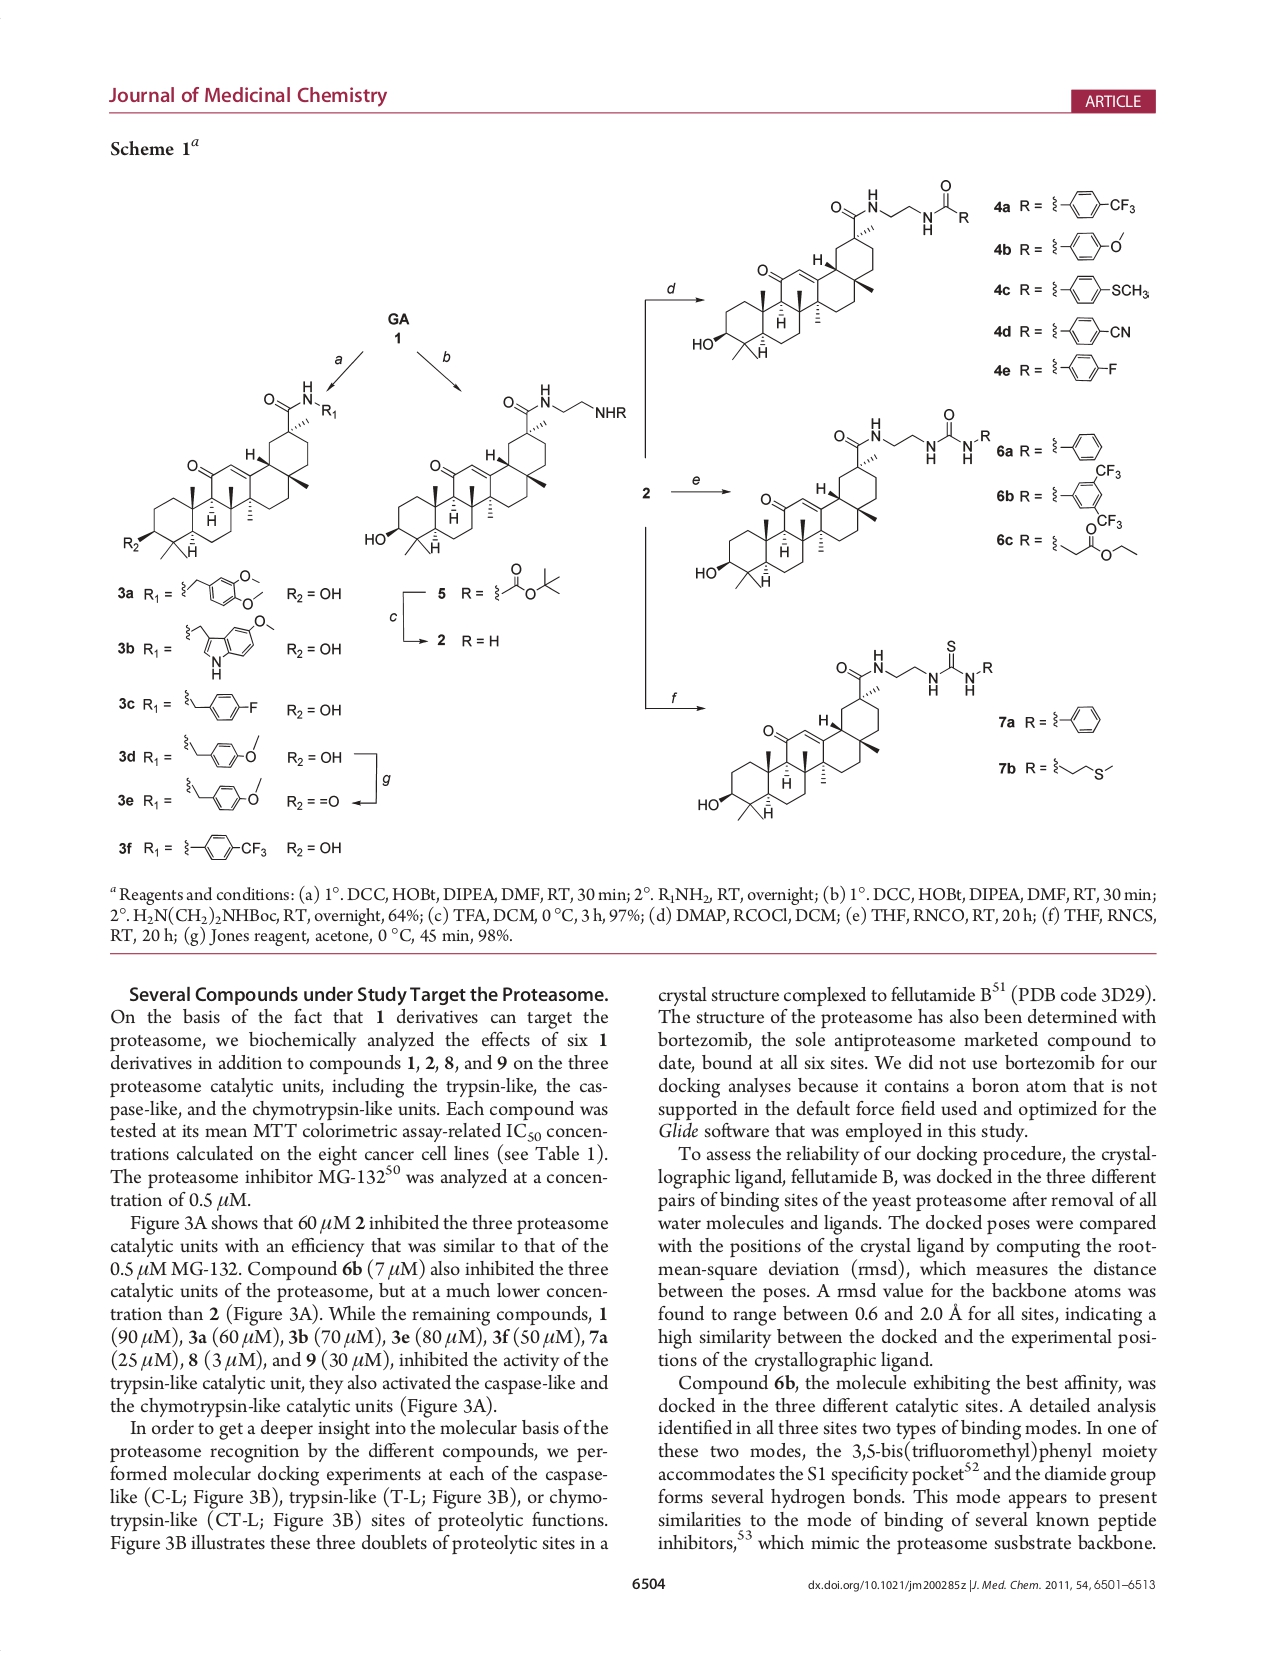exist_molecular: (692, 406, 991, 590), (696, 638, 995, 822), (689, 176, 972, 362), (360, 380, 629, 557), (118, 376, 338, 561), (184, 613, 277, 684), (1049, 461, 1125, 529), (176, 565, 266, 610), (1048, 270, 1149, 309), (181, 773, 267, 815), (1048, 524, 1137, 565), (489, 559, 564, 606), (177, 729, 261, 770), (180, 684, 261, 726), (1047, 186, 1137, 222), (178, 829, 269, 863), (1051, 313, 1134, 348), (1048, 350, 1118, 387), (1051, 227, 1128, 261), (1051, 751, 1114, 785), (1049, 701, 1101, 739), (1047, 430, 1104, 461)
